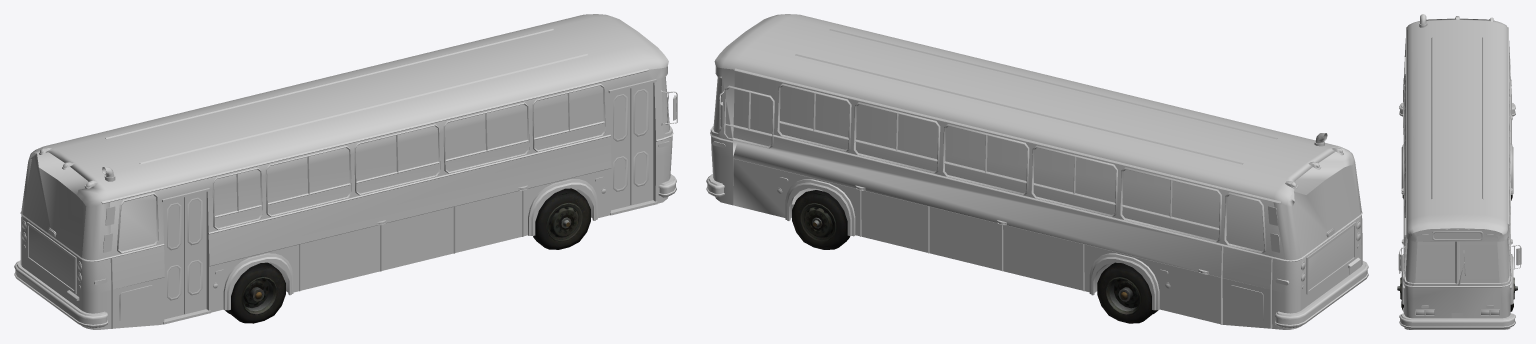
The model's file is Model_Bus.FBX.
The picture shows the model from 3 angles, left to right: view 1: azimuth 30°, elevation 25°; view 2: azimuth 150°, elevation 25°; view 3: azimuth 270°, elevation 25°; orthographic projection. The views are drawn at different scales.
Parts seen in each view (by area): view 1: CityBus, FR, RR; view 2: CityBus, FL, RL; view 3: CityBus.
Boxes of the visible parts, x1,y1,x2,y2 form: CityBus: (14, 14, 677, 329); FR: (533, 188, 590, 249); RR: (225, 262, 285, 323); CityBus: (706, 14, 1368, 329); FL: (792, 190, 849, 249); RL: (1097, 262, 1157, 323); CityBus: (1398, 14, 1521, 329).
Bounding box in the file's own units: 484 × 141 × 118.
